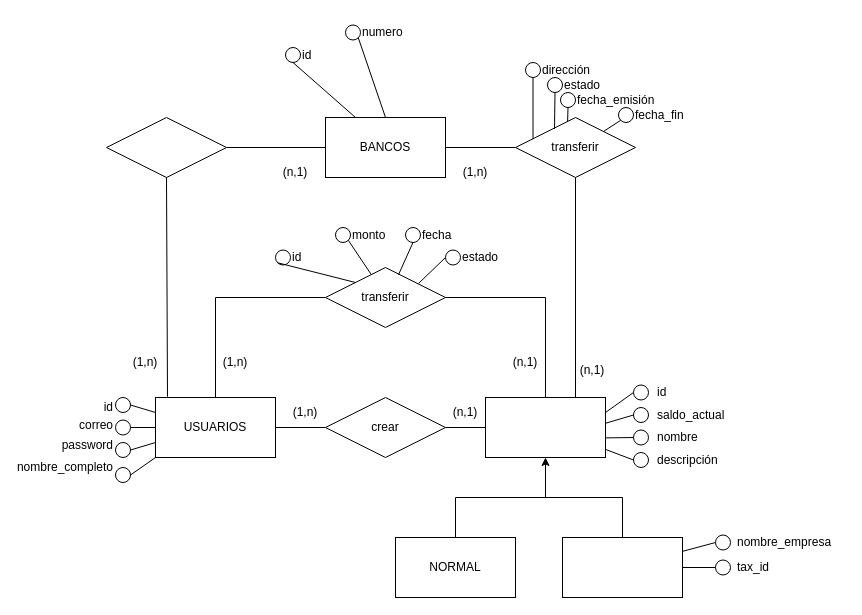
Some shapes in this 862 by 615 pixel diagram are drawn without their labels. The shapes that lost their labels are listed below. From the top down, each one's box as (x1, y1, x2, y2) in pixels, then its label:
(106, 116, 226, 178): tiene
(484, 396, 606, 458): CUENTAS
(562, 536, 682, 598): EMPRESA
